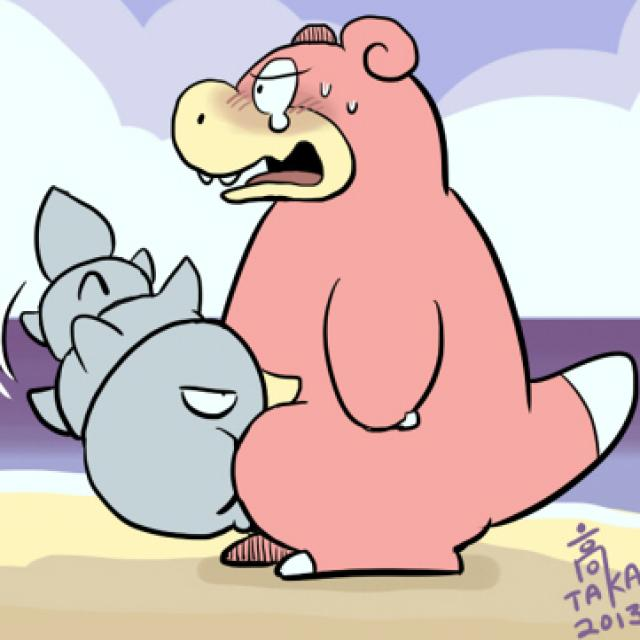Slowbro: (108, 20, 593, 576)
